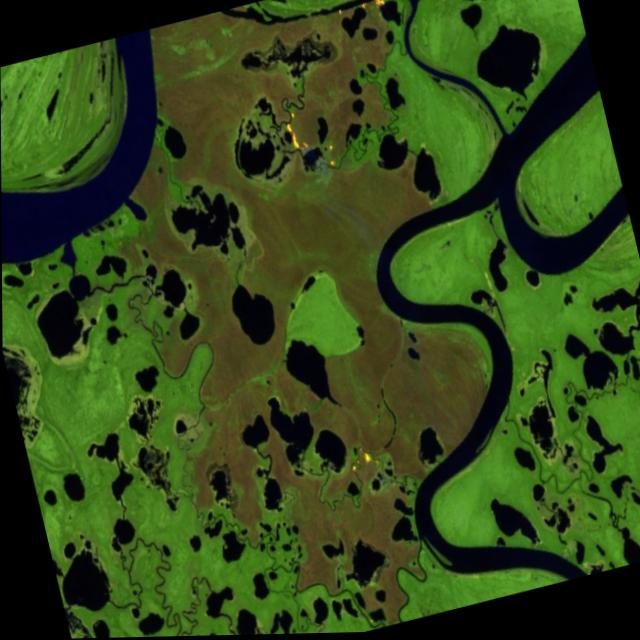fire: (278, 98, 339, 180), (328, 0, 390, 27), (342, 443, 382, 481)
